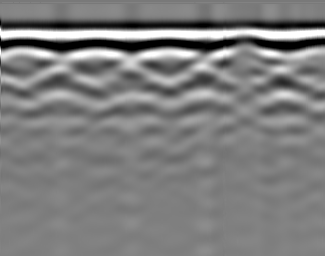pipe: (222, 29, 267, 56)
steel: (109, 68, 160, 110), (42, 67, 89, 109), (182, 67, 228, 107)
